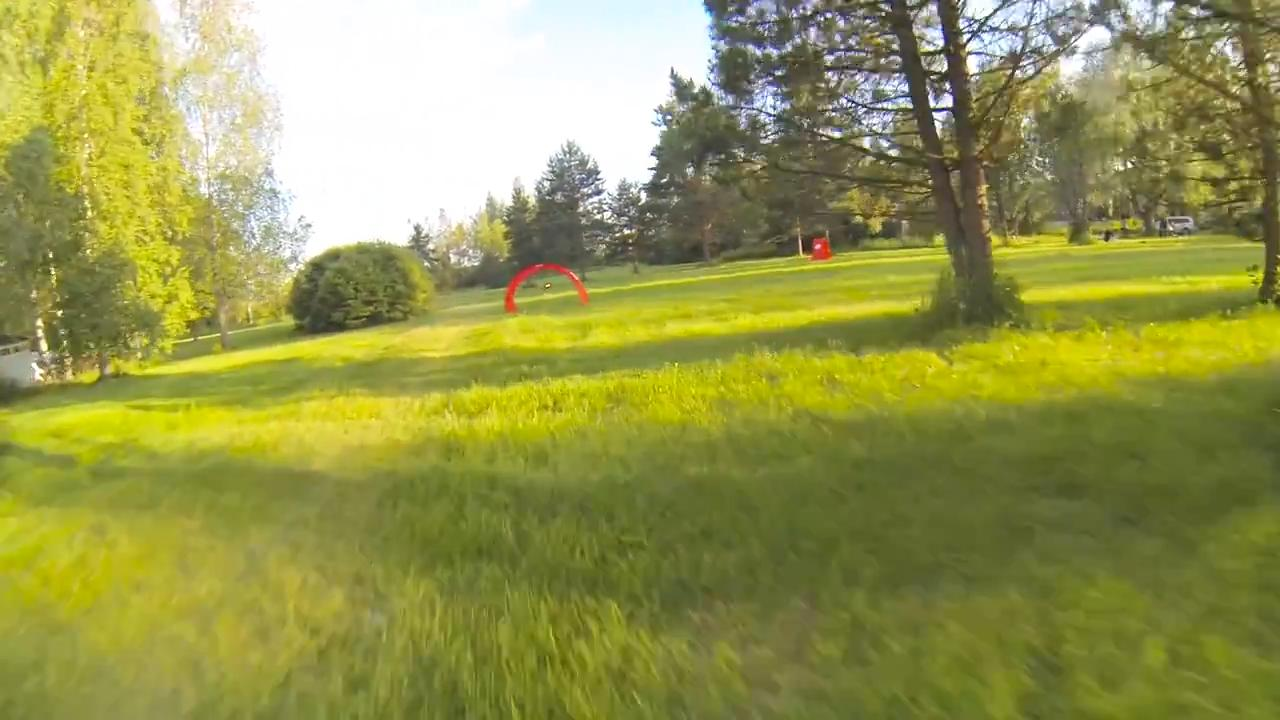gate: (503, 260, 593, 314)
